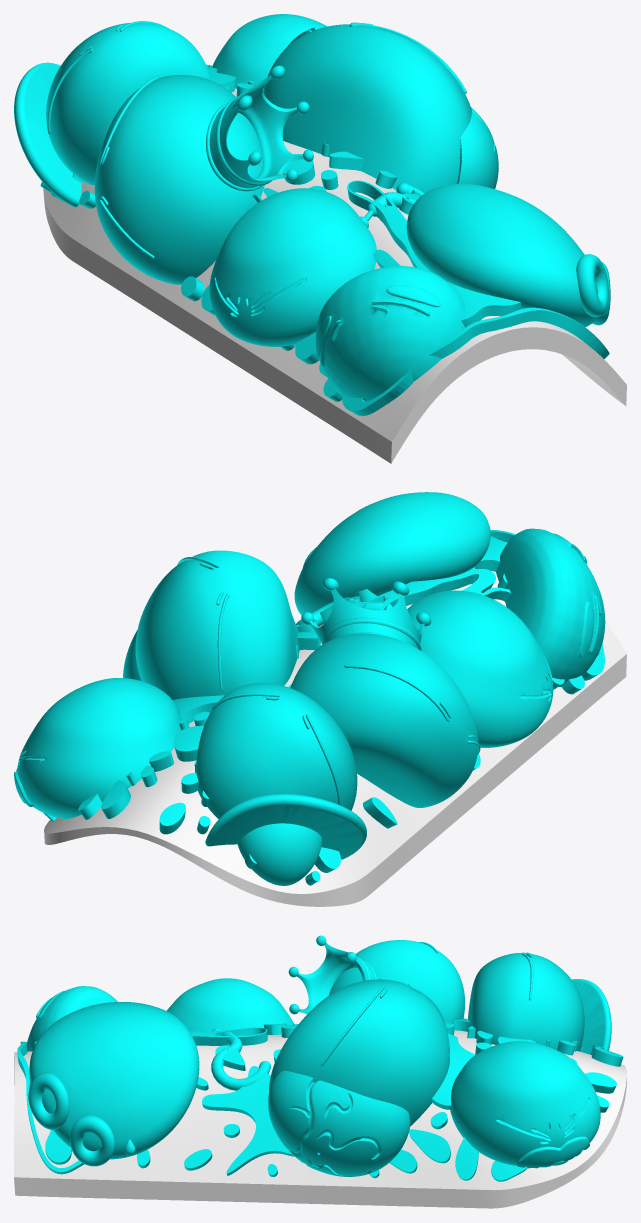
File: rimuru-square-web.glb
The picture shows the model from 3 angles, top to bottom: view 1: azimuth 30°, elevation 25°; view 2: azimuth 150°, elevation 25°; view 3: azimuth 270°, elevation 25°; orthographic projection. The views are drawn at different scales.
Size of the model in its own units: 0.0168 by 0.0103 by 0.0301.
